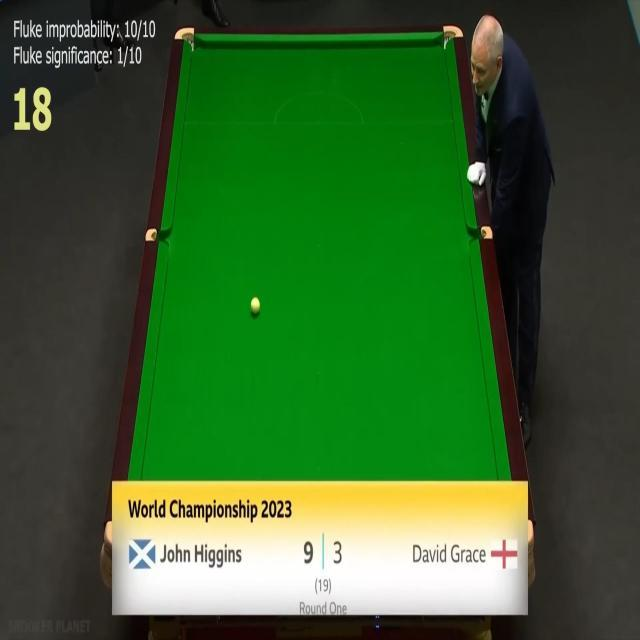Ball: (250, 298, 260, 314)
